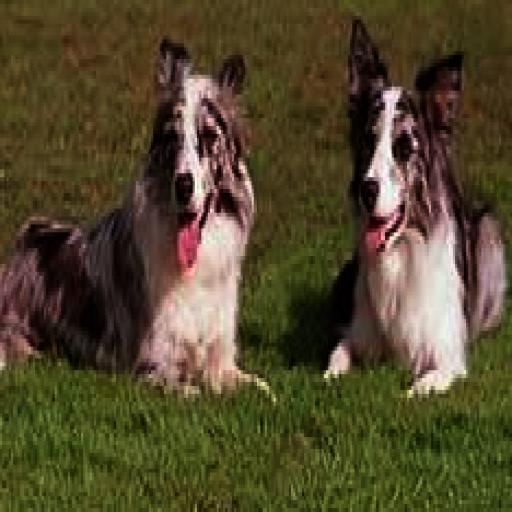dog_face: (345, 30, 465, 254), (141, 39, 246, 260)
